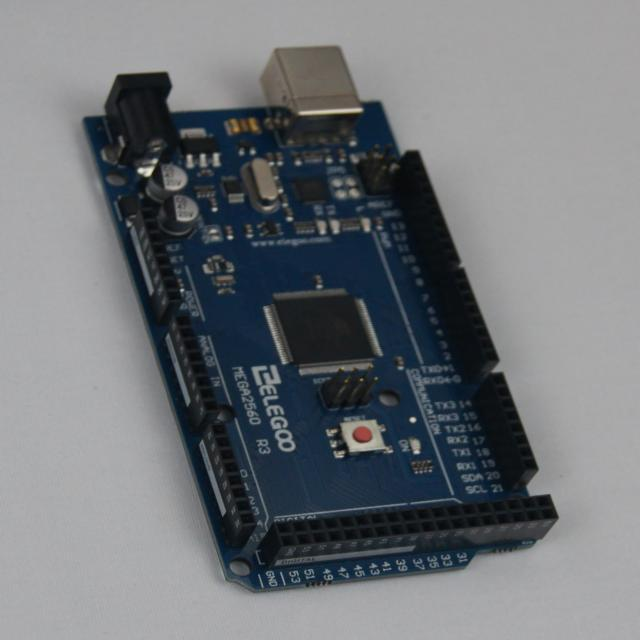Arduino Mega 2560 -Blue-: (85, 47, 559, 591)
